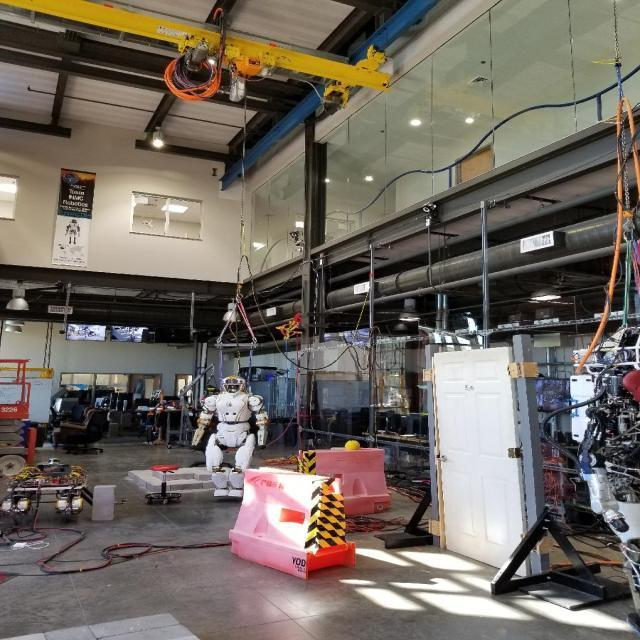door: (433, 344, 530, 582), (438, 454, 450, 462)
